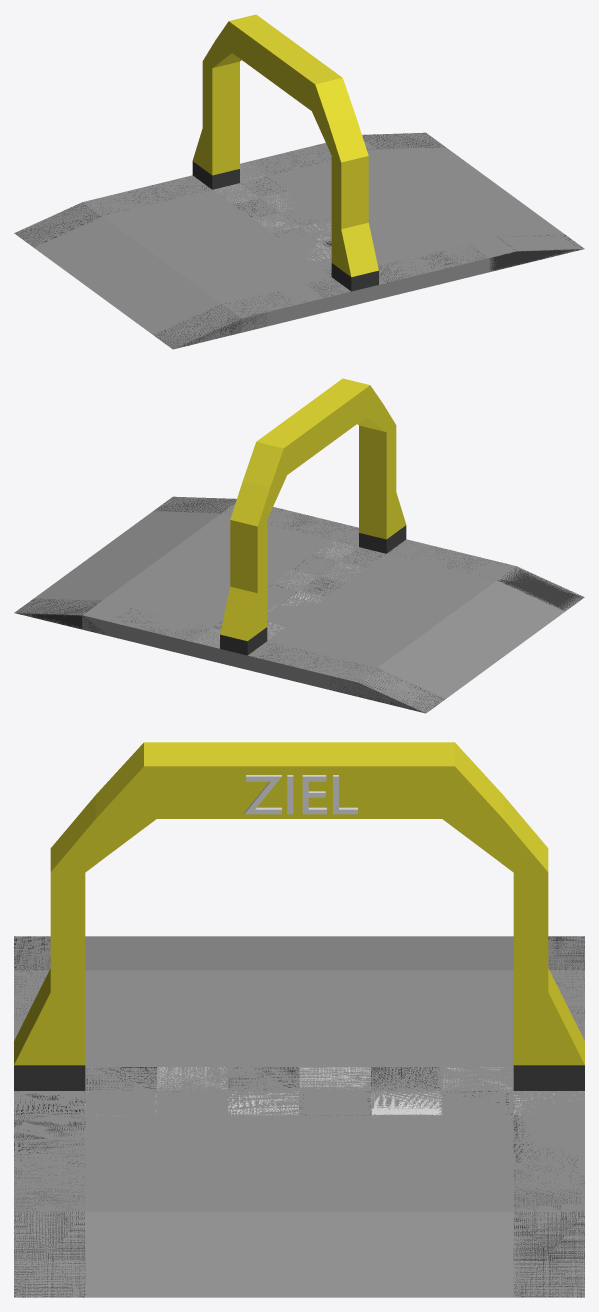
The model's file is Ziel.fbx.
3 renders of one model, top to bottom at view 1: azimuth 30°, elevation 25°; view 2: azimuth 150°, elevation 25°; view 3: azimuth 270°, elevation 25°, orthographic. The views are drawn at different scales.
Parts seen in each view (by area): view 1: Cube; view 2: Cube; view 3: Cube, Text.
Boxes of the visible parts, left/top/right/bottom form: Cube: left=14, top=14, right=584, bottom=349; Cube: left=14, top=378, right=584, bottom=713; Cube: left=14, top=742, right=584, bottom=1297; Text: left=244, top=775, right=357, bottom=814.
Size of the model in its own units: 599 by 271 by 400.
